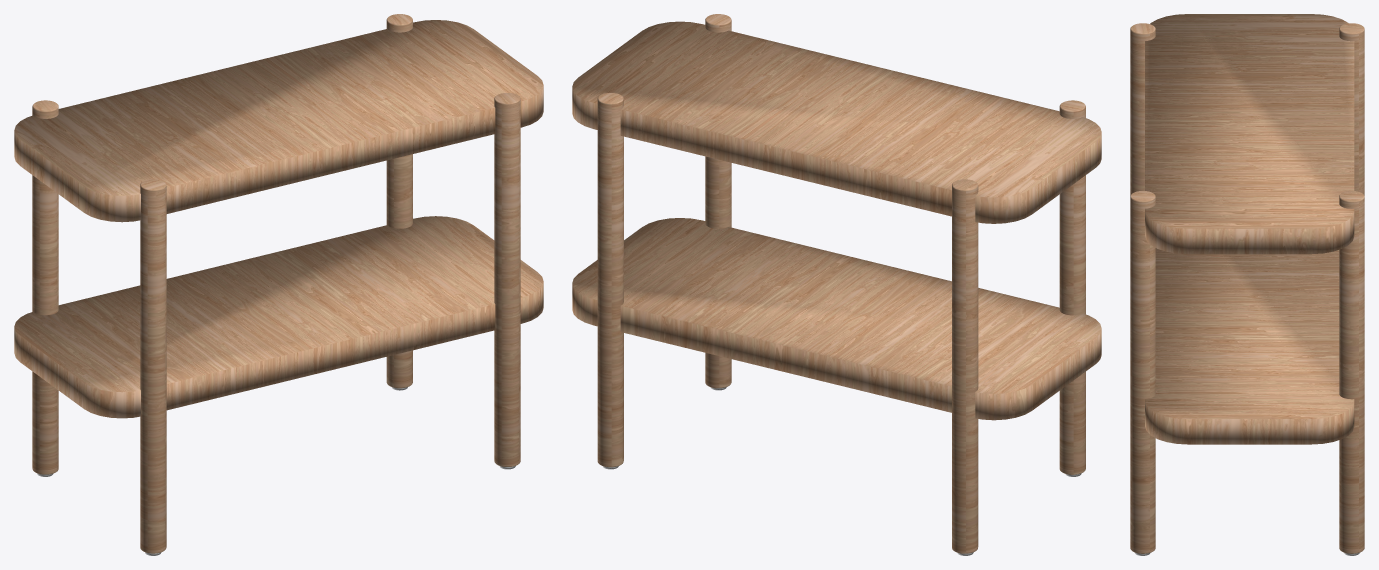
File: ConsoleTable.glb
The picture shows the model from 3 angles, left to right: view 1: azimuth 30°, elevation 25°; view 2: azimuth 150°, elevation 25°; view 3: azimuth 270°, elevation 25°; orthographic projection. The views are drawn at different scales.
Parts seen in each view (by area): view 1: Cube.004; view 2: Cube.004; view 3: Cube.004.
Boxes of the visible parts, x1,y1,x2,y2 form: Cube.004: (14, 14, 543, 555); Cube.004: (572, 14, 1101, 555); Cube.004: (1130, 14, 1364, 555).
Size of the model in its own units: 0.9186 by 0.7119 by 0.424.
Materials: 2 (1 with a texture image).
